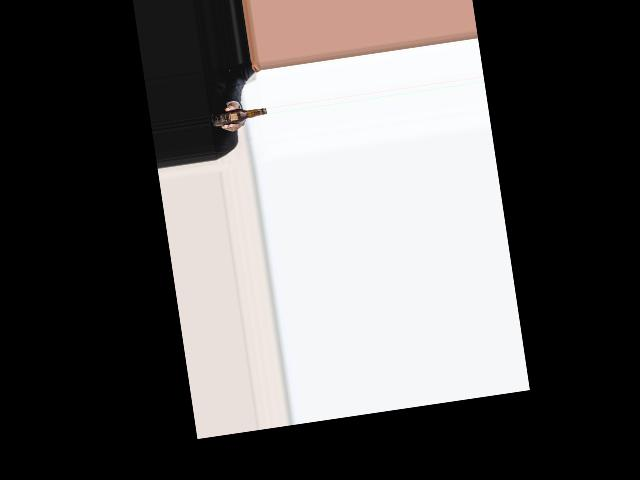beer: (210, 105, 267, 127)
